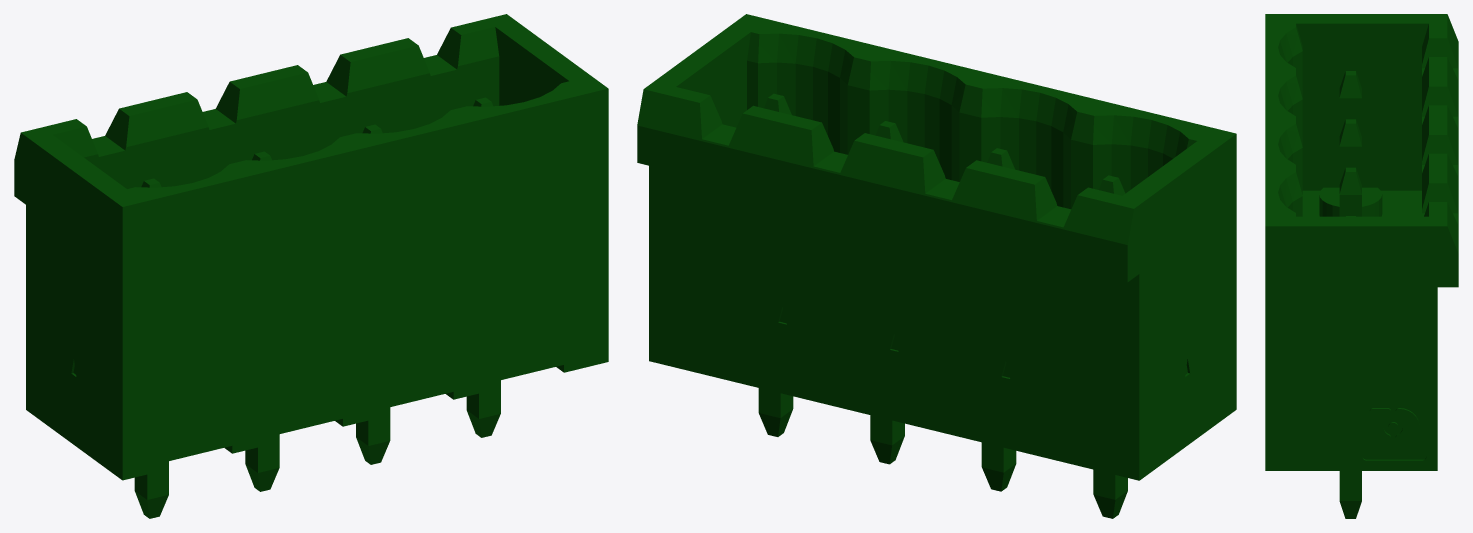
Rendered from pth2.dae.
The picture shows the model from 3 angles, left to right: view 1: azimuth 30°, elevation 25°; view 2: azimuth 150°, elevation 25°; view 3: azimuth 270°, elevation 25°; orthographic projection. The views are drawn at different scales.
Visible parts, largest first — view 1: node0; view 2: node0; view 3: node0.
Boxes of the visible parts, left/top/right/bottom form: node0: left=14, top=14, right=608, bottom=518; node0: left=637, top=14, right=1236, bottom=518; node0: left=1265, top=14, right=1458, bottom=518.
Bounding box in the file's own units: 0.0223 × 0.0086 × 0.0159.
